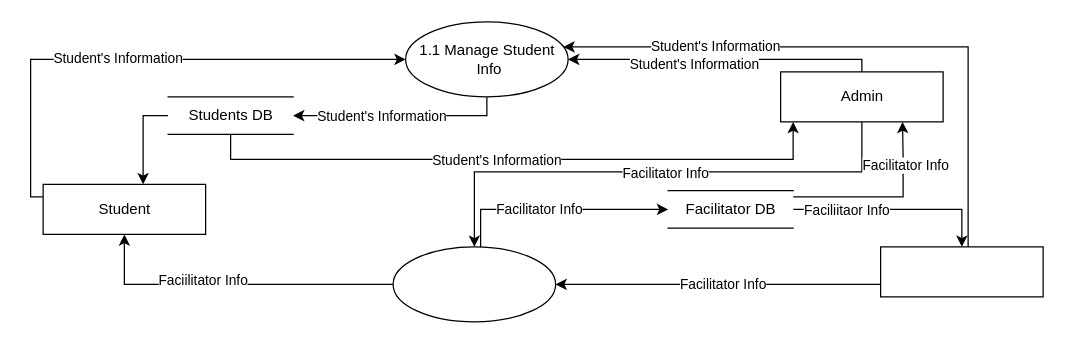
Some shapes in this 1065 by 344 pixel diagram are drawn without their labels. The box of each missing label's shape, as (x1, y1, x2, y2) in pixels:
1.2 Manage Instructor Info: (392, 246, 556, 322)
Facilitator: (879, 246, 1043, 297)
